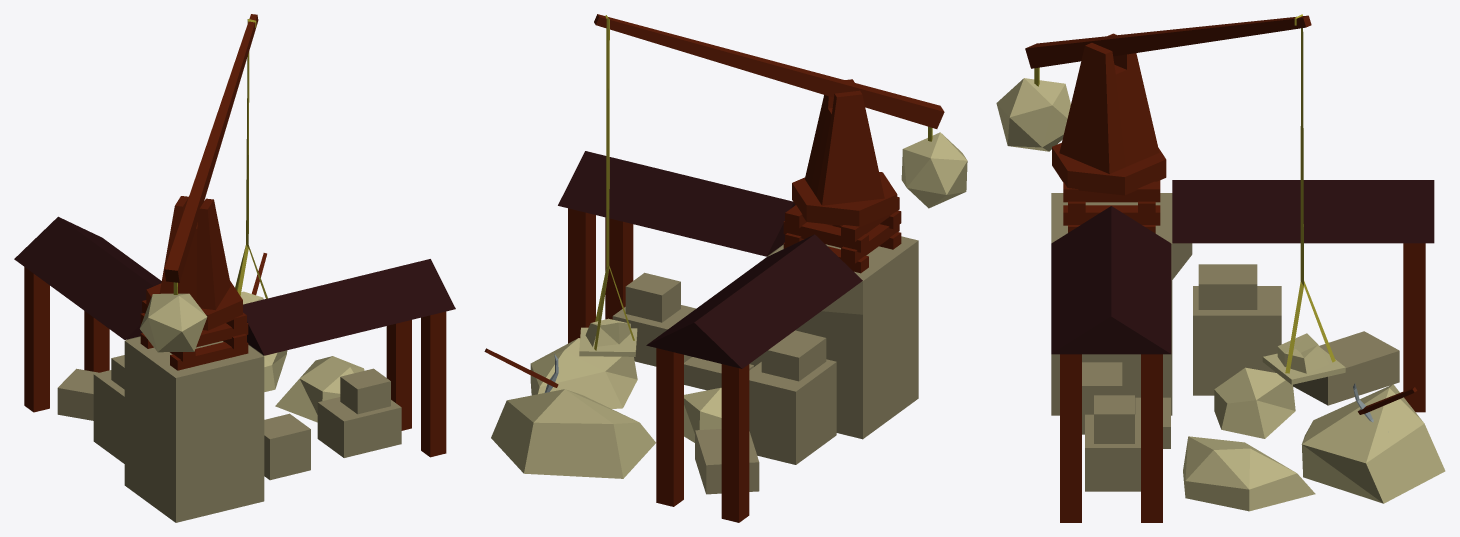
Rendered from Human-SuperMine.fbx.
The picture shows the model from 3 angles, left to right: view 1: azimuth 30°, elevation 25°; view 2: azimuth 150°, elevation 25°; view 3: azimuth 270°, elevation 25°; orthographic projection. The views are drawn at different scales.
Parts seen in each view (by area): view 1: Human-Super-Mine; view 2: Human-Super-Mine; view 3: Human-Super-Mine.
Part boxes in pixels (x1,y1,x2,y2): Human-Super-Mine: (14, 14, 455, 522); Human-Super-Mine: (484, 14, 967, 522); Human-Super-Mine: (996, 14, 1445, 522).
Size of the model in its own units: 1.02 by 1.06 by 1.18.
